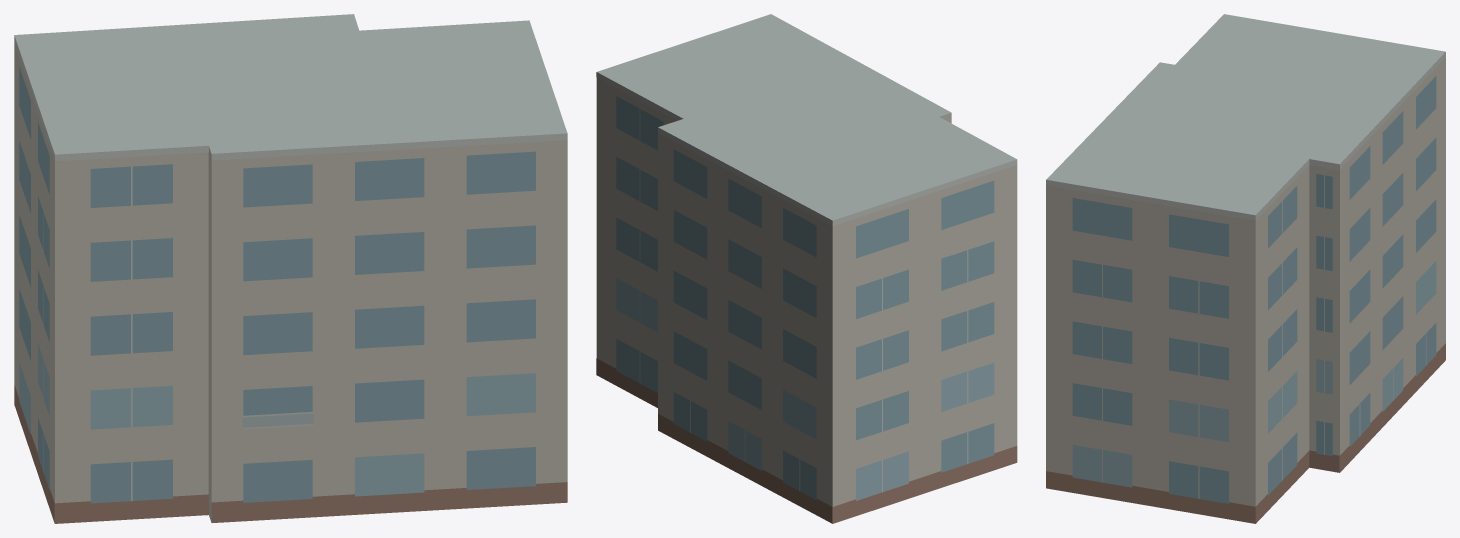
The model's file is survey-upis-32505034.glb.
The picture shows the model from 3 angles, left to right: view 1: azimuth 30°, elevation 25°; view 2: azimuth 150°, elevation 25°; view 3: azimuth 270°, elevation 25°; orthographic projection. The views are drawn at different scales.
Parts seen in each view (by area): view 1: survey-upis-32505034.tmp; view 2: survey-upis-32505034.tmp; view 3: survey-upis-32505034.tmp.
Boxes of the visible parts, box(x1,y1,x2,y2) form: survey-upis-32505034.tmp: box(14, 14, 567, 523); survey-upis-32505034.tmp: box(596, 14, 1017, 523); survey-upis-32505034.tmp: box(1046, 14, 1445, 523).
Bounding box in the file's own units: 18.75 × 13.4 × 15.74.
